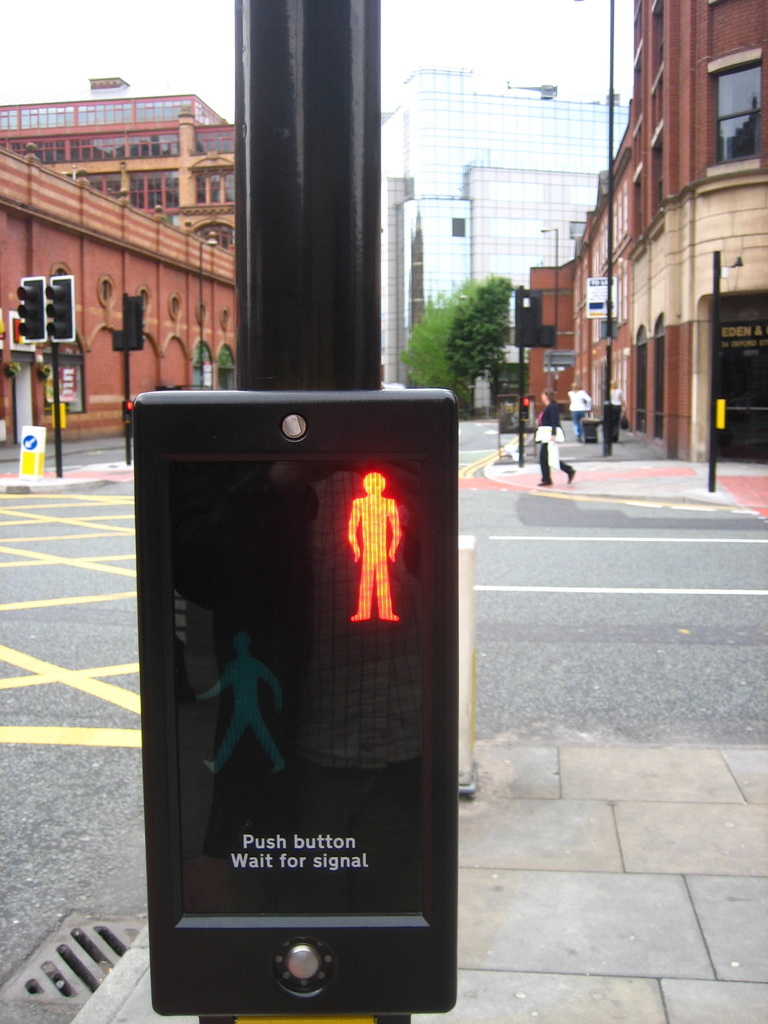keep_left: (19, 432, 36, 448)
red_light: (336, 470, 416, 637)
